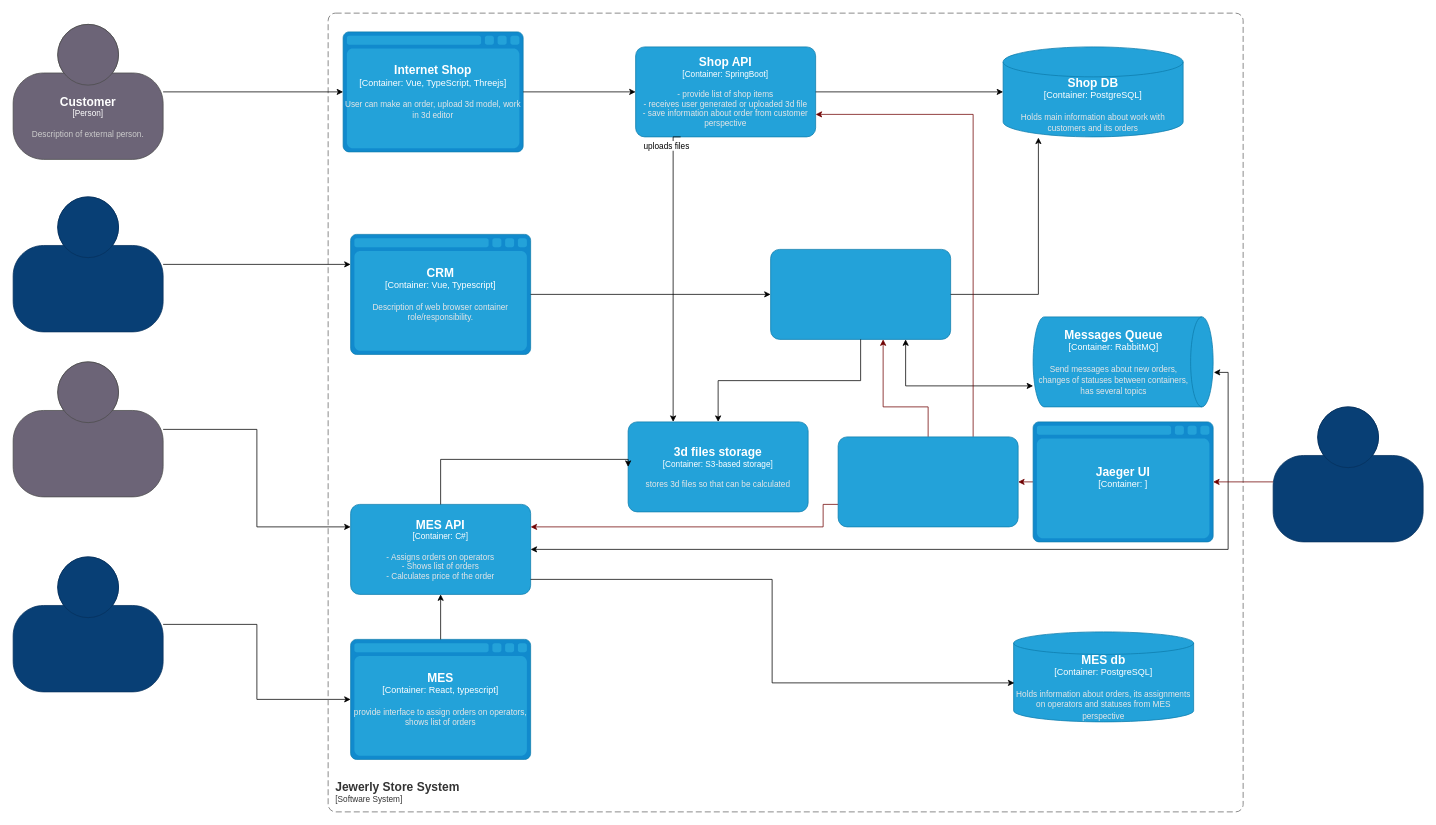
This 1436x825 diagram has some shape labels left out. The centre of each missing label's shape, as x and y in pixels:
API user [Person] Description of external person.: the point at 87,429
CRM API [Container: SpringBoot] Description of container role/responsibility.: the point at 860,294
Jaeger [Container: ]: the point at 927,481
Operator [Person] Takes order in work, manufactures jewerly: the point at 87,624
Seller [Person] Operates with order, confirms manufacturing for the user: the point at 87,264
Support [Person] Tracing: the point at 1347,474
